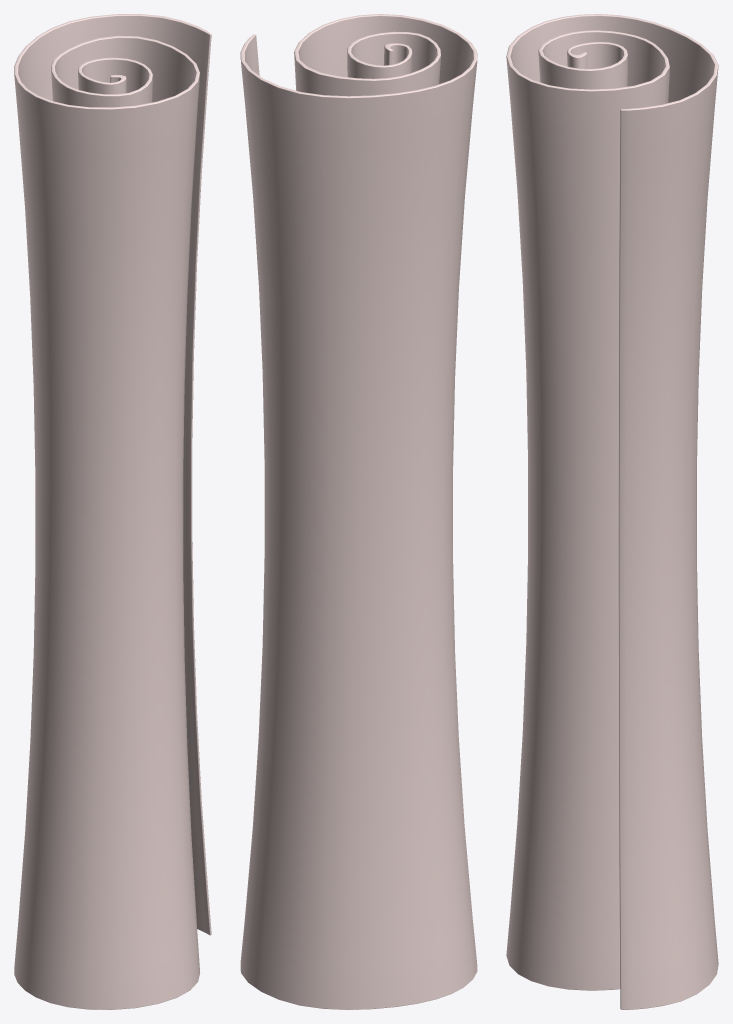
The model's file is Public_2_Scroll_1.glb.
3 views of the same model, side by side, from view 1: azimuth 30°, elevation 25°; view 2: azimuth 150°, elevation 25°; view 3: azimuth 270°, elevation 25° (orthographic).
Parts seen in each view (by area): view 1: Public_2_Scroll_1; view 2: Public_2_Scroll_1; view 3: Public_2_Scroll_1.
Part boxes in pixels (x1,y1,x2,y2): Public_2_Scroll_1: (14,14,211,1009); Public_2_Scroll_1: (240,14,477,1009); Public_2_Scroll_1: (506,14,718,1009).
Size of the model in its own units: 0.4484 by 1.95 by 0.4175.
Materials: 1 (1 with a texture image).
